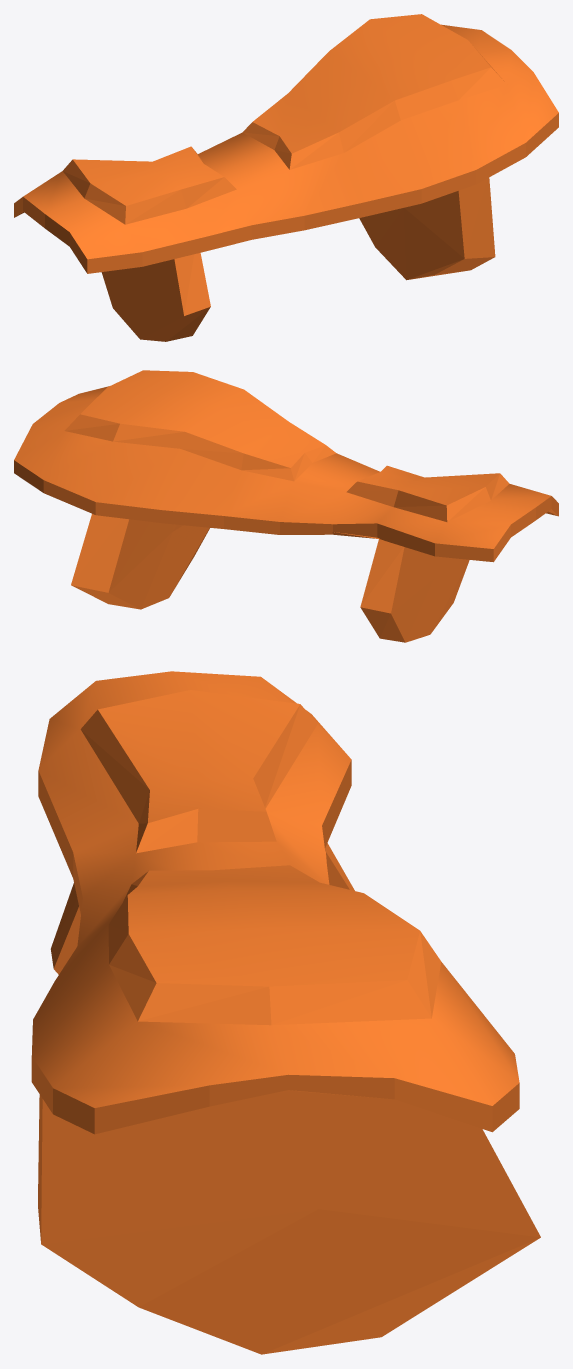
File: bracer_bronze.FBX
The picture shows the model from 3 angles, top to bottom: view 1: azimuth 30°, elevation 25°; view 2: azimuth 150°, elevation 25°; view 3: azimuth 270°, elevation 25°; orthographic projection. The views are drawn at different scales.
Visible parts, largest first — view 1: Sphere009; view 2: Sphere009; view 3: Sphere009.
Part boxes in pixels (x1,y1,x2,y2): Sphere009: [14, 14, 558, 341]; Sphere009: [14, 370, 558, 642]; Sphere009: [31, 671, 540, 1354].
Size of the model in its own units: 0.2652 by 0.115 by 0.1307.
